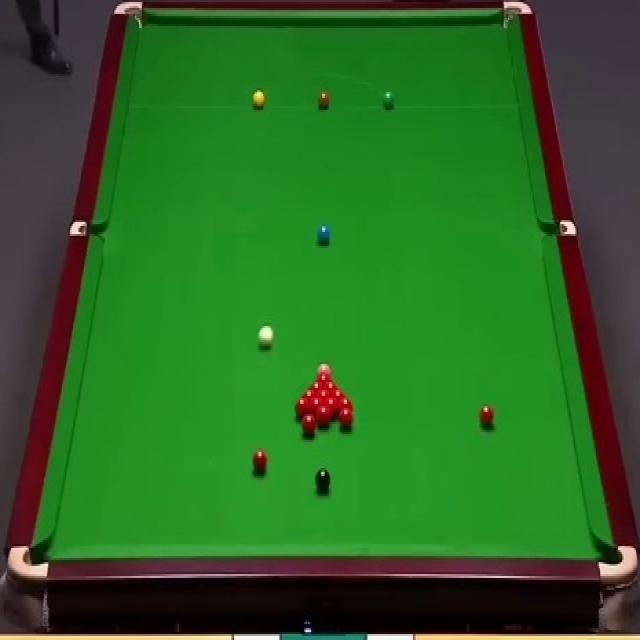pocket: (5, 538, 49, 588), (594, 543, 639, 588), (498, 0, 532, 34), (111, 2, 145, 30), (541, 218, 575, 236), (69, 220, 103, 237)
